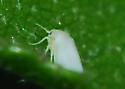whitefly: (24, 20, 87, 74)
